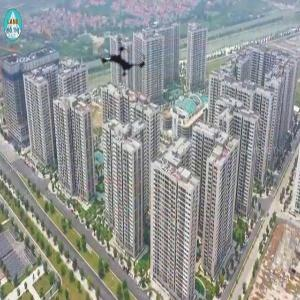drone: (84, 20, 163, 99)
